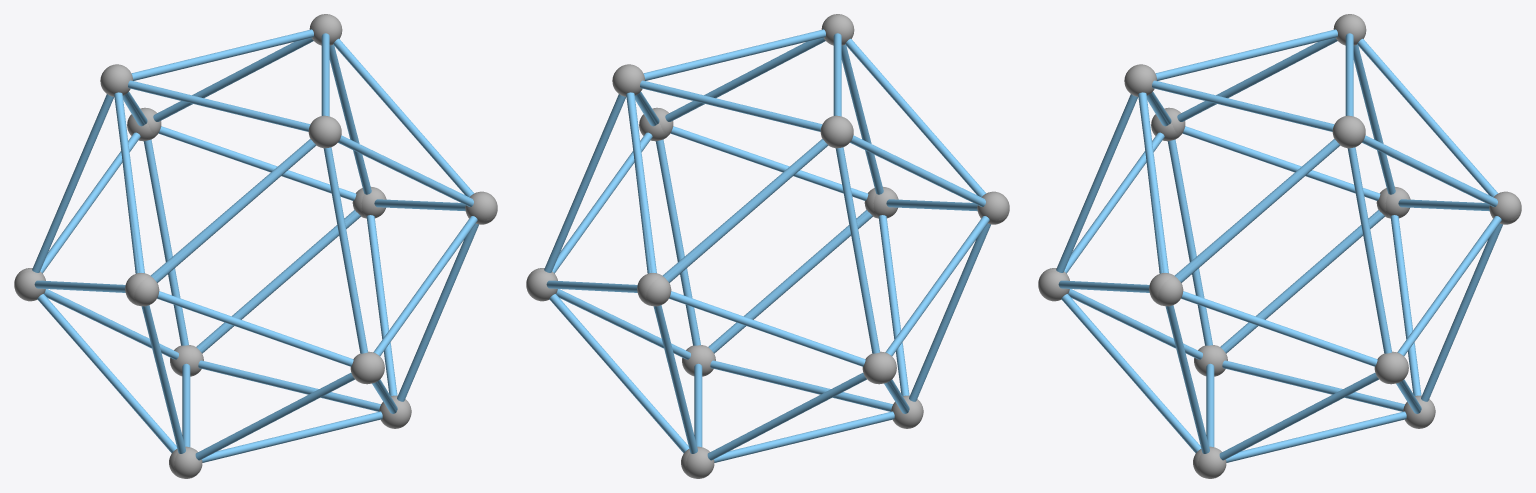
File: icosahedron.glb
The picture shows the model from 3 angles, left to right: view 1: azimuth 30°, elevation 25°; view 2: azimuth 150°, elevation 25°; view 3: azimuth 270°, elevation 25°; orthographic projection.
Size of the model in its own units: 6.87 by 6.42 by 7.81.
